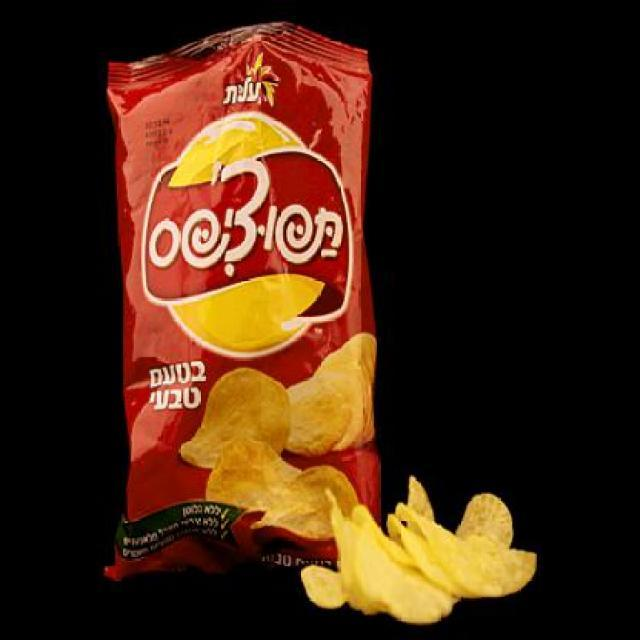Chips: (91, 31, 382, 617)
Chips packaged: (308, 450, 542, 639)
